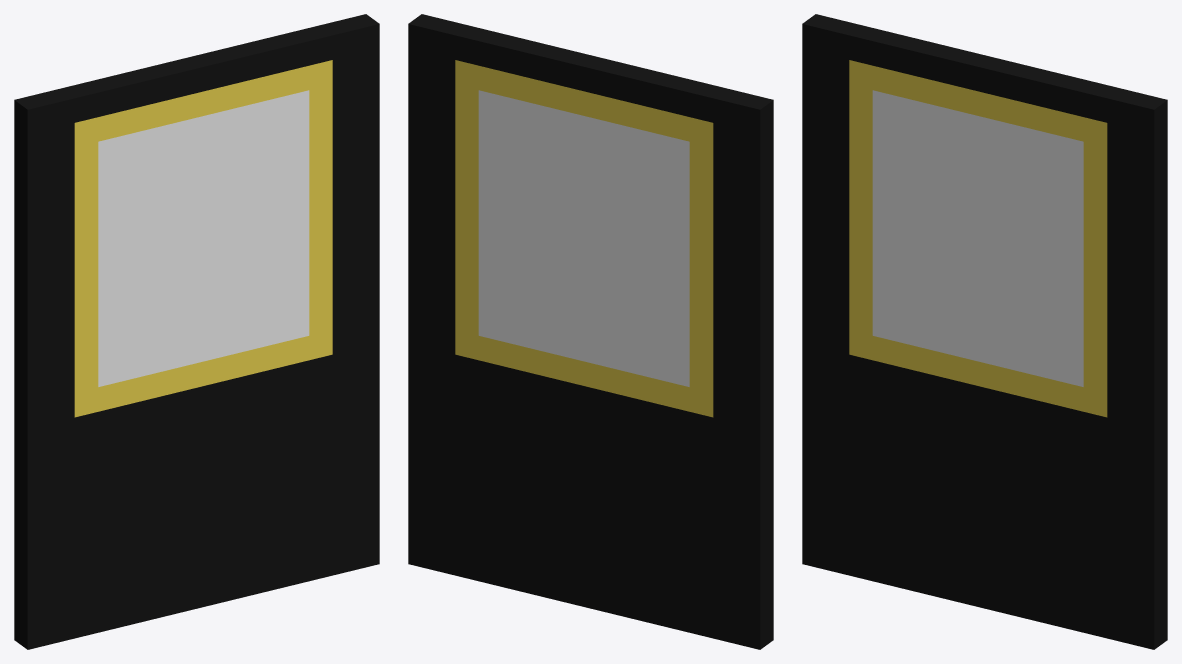
The model's file is BusDoor_V2.fbx.
3 renders of one model, left to right at view 1: azimuth 30°, elevation 25°; view 2: azimuth 150°, elevation 25°; view 3: azimuth 330°, elevation 25°, orthographic.
Parts seen in each view (by area): view 1: BusDoor_V2; view 2: BusDoor_V2; view 3: BusDoor_V2.
Boxes of the visible parts, left/top/right/bottom form: BusDoor_V2: left=14, top=14, right=379, bottom=649; BusDoor_V2: left=408, top=14, right=773, bottom=649; BusDoor_V2: left=802, top=14, right=1167, bottom=649.
Size of the model in its own units: 1.5 by 2.2 by 0.1.
Materials: 1 (1 with a texture image).
